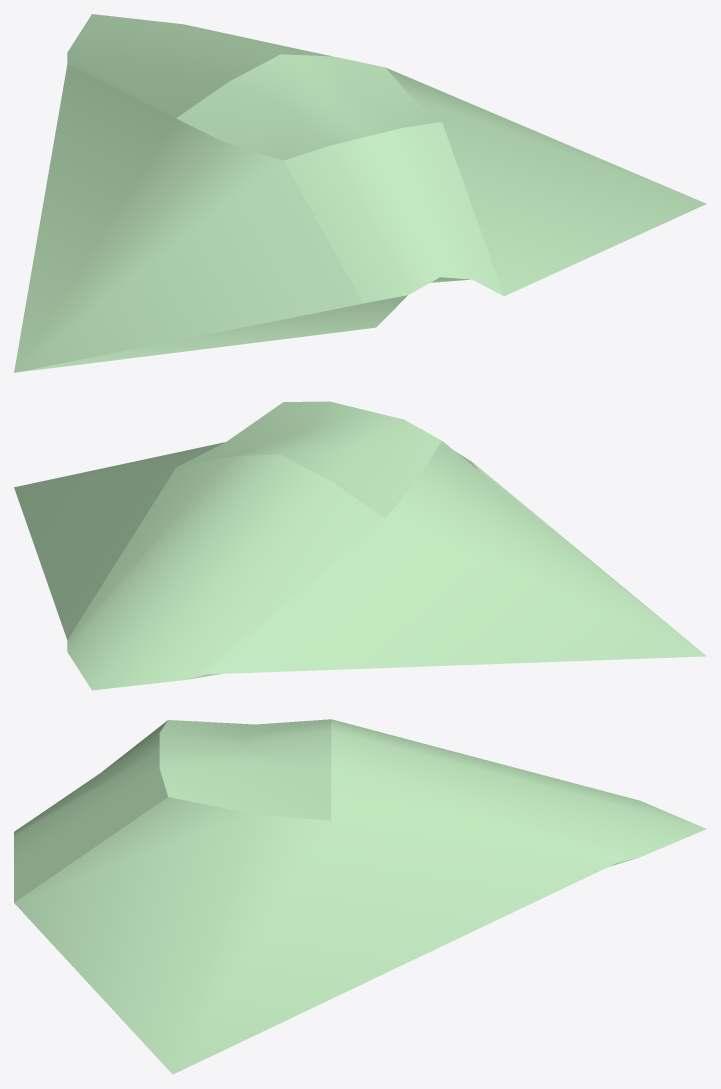
The model's file is SimpleShip.fbx.
3 views of the same model, one above another, from view 1: azimuth 30°, elevation 25°; view 2: azimuth 150°, elevation 25°; view 3: azimuth 270°, elevation 25° (orthographic).
Visible parts, largest first — view 1: pCube1; view 2: pCube1; view 3: pCube1.
Boxes of the visible parts, <box> form: pCube1: <box>14,14,706,372</box>; pCube1: <box>14,401,706,690</box>; pCube1: <box>14,719,706,1074</box>.
Bounding box in the file's own units: 5.42 × 1.31 × 4.72.
